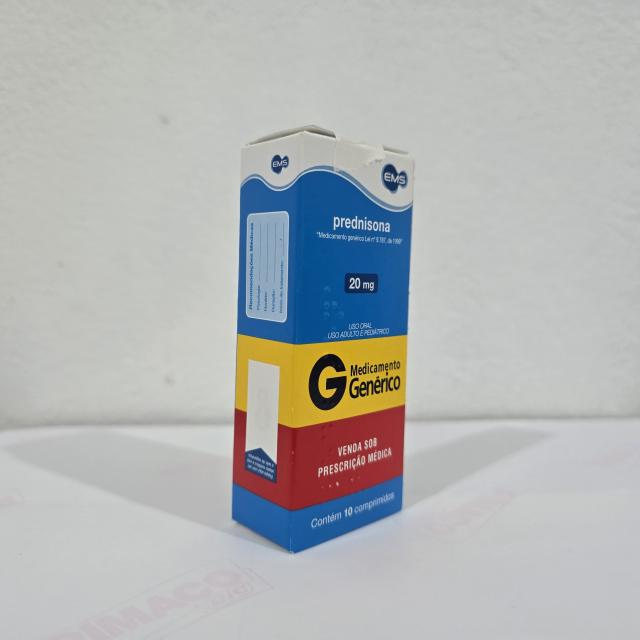prednisona: (225, 121, 418, 557)
